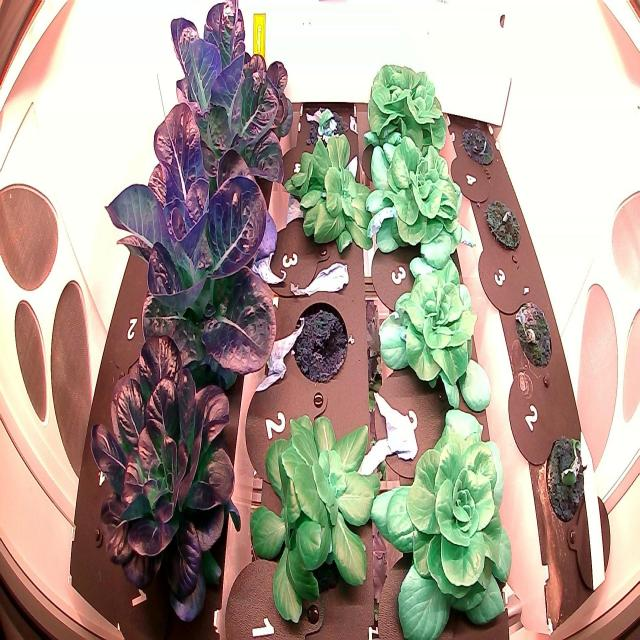Ready: (92, 80, 286, 418), (82, 310, 250, 633), (149, 1, 300, 200)
empty_pod: (72, 402, 135, 516), (101, 289, 156, 379)
pod: (304, 102, 355, 151)
young: (373, 401, 514, 639), (248, 410, 379, 625), (369, 250, 501, 419), (360, 126, 484, 274), (278, 128, 376, 266), (358, 55, 459, 155)
